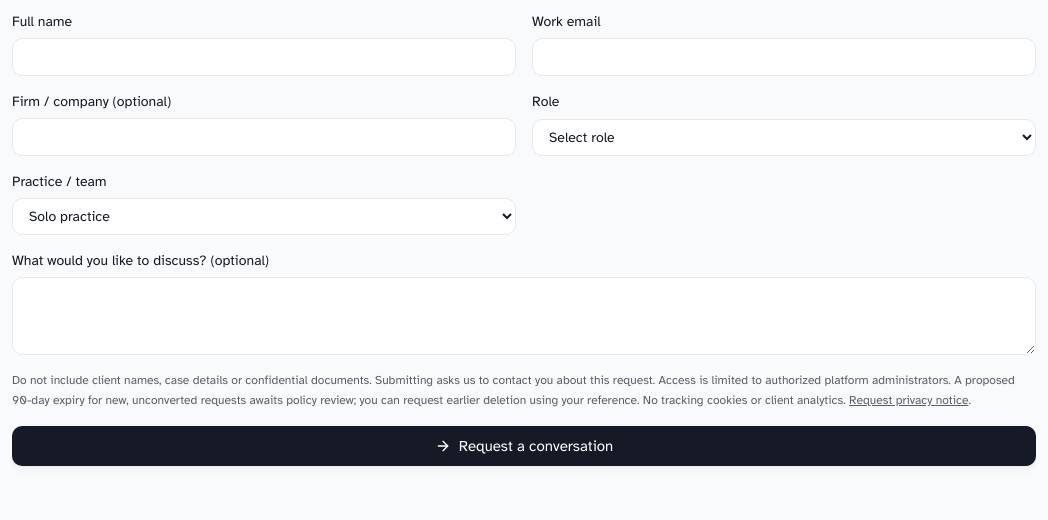
Test: seo_demo_20261009 public form › keeps one immutable key after 503 and never automatically retries
Type "Demo Advocate" into the field labelled "Full name" at (264, 57), box x1=12 y1=38 x2=516 y2=76
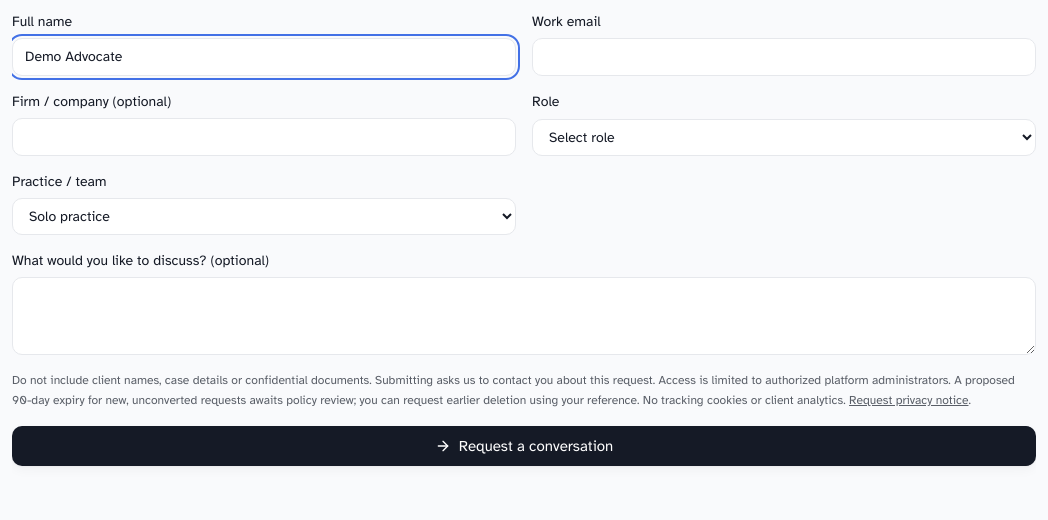
Type "demo@example.com" into the field labelled "Work email" at (784, 57), box x1=532 y1=38 x2=1036 y2=76
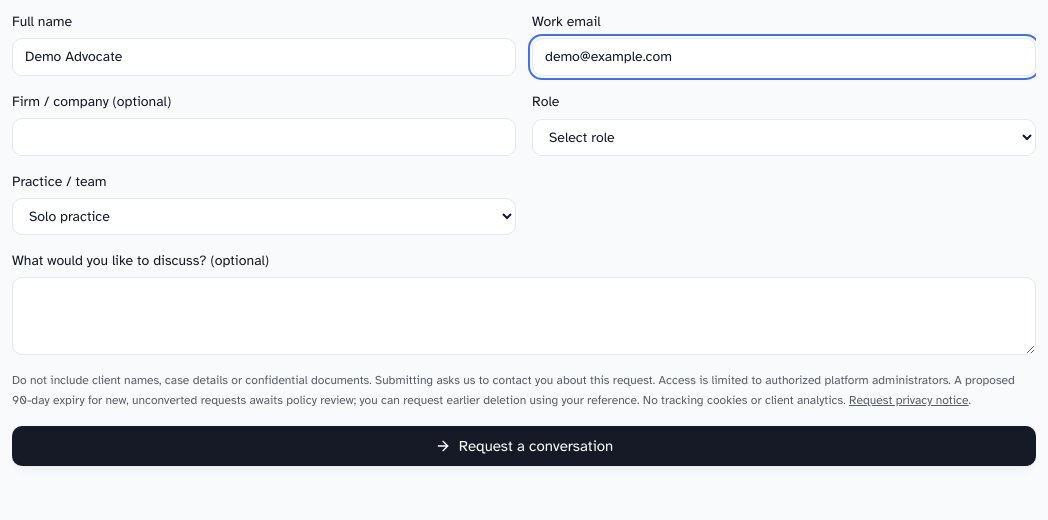
Select "Solo advocate" in the dropdown labelled "Role" at (784, 137), box x1=532 y1=118 x2=1036 y2=156
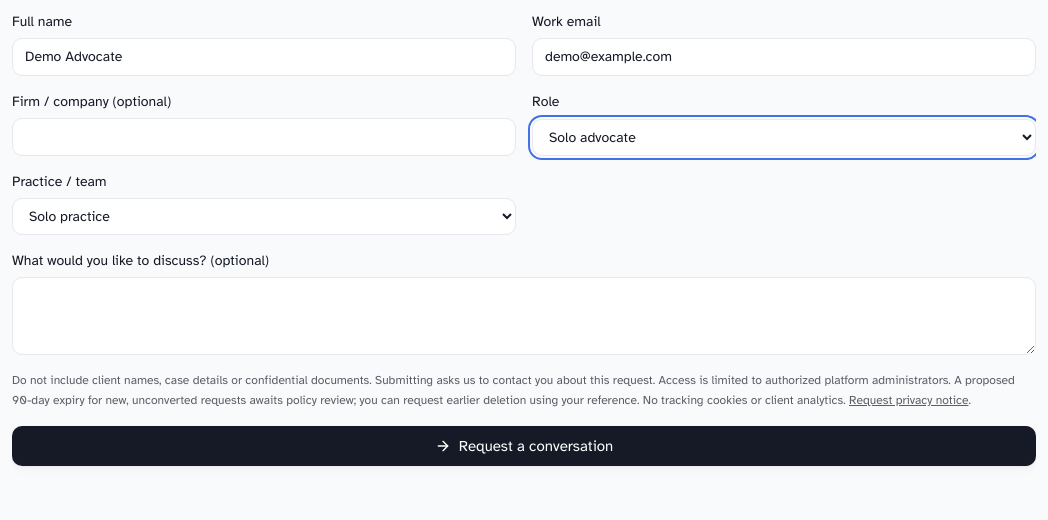
Click the button "Request a conversation" at (524, 446), box x1=12 y1=426 x2=1036 y2=466
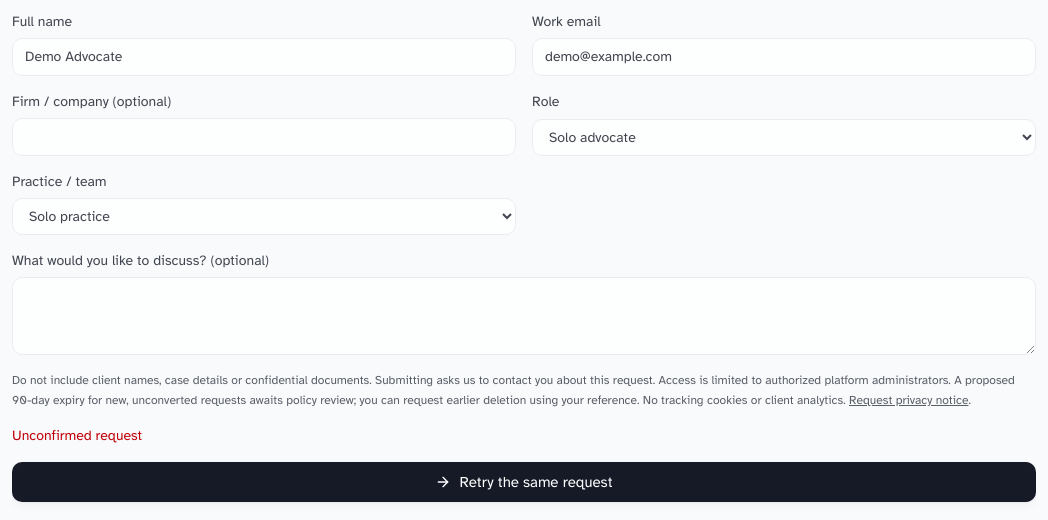
Expected: the field labelled "Full name" is disabled, x1=12 y1=38 x2=516 y2=76
Now the message "Unconfirmed request" is shown, box x1=12 y1=427 x2=142 y2=444
Click the button "Retry the same request" at (524, 482), box x1=12 y1=462 x2=1036 y2=502
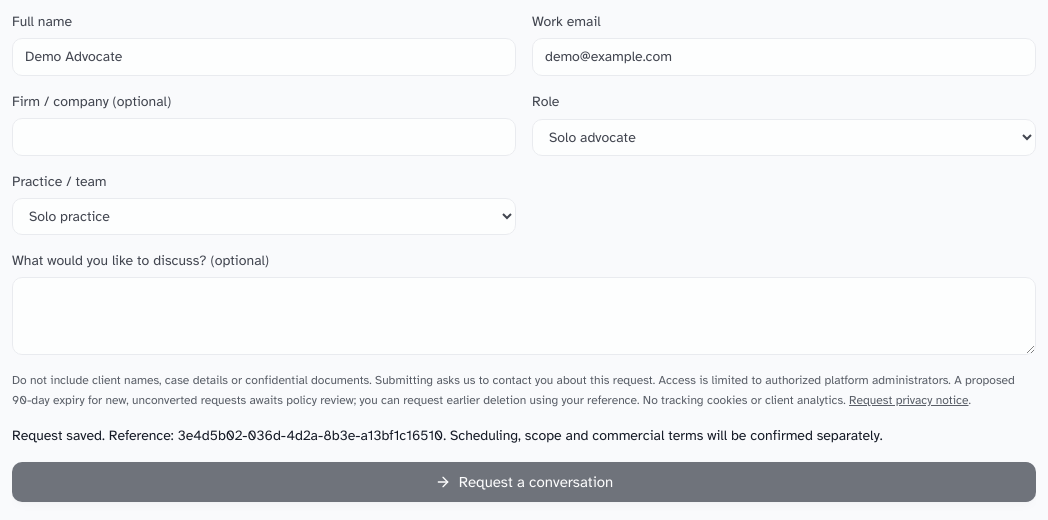
Now the message shows "Request saved.", box x1=12 y1=427 x2=178 y2=444
